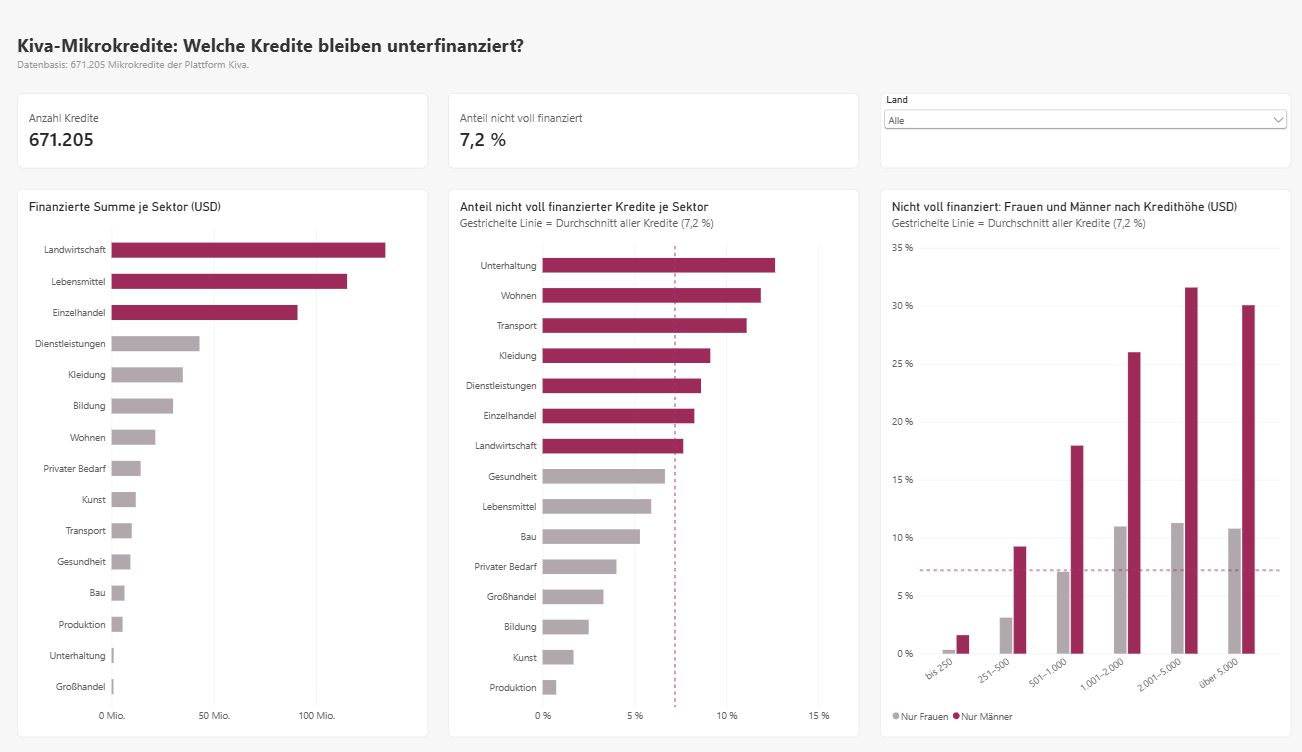

This screenshot's page, from the dashboard's own definition file:
{"tool":"powerbi","page":{"name":"Seite 1","canvas":[1920,1080],"ordinal":0},"visuals":[{"type":"cardVisual","fields":{"Data":["Kredite.Anzahl Kredite"]},"box":[30,110,600,110],"z":0},{"type":"clusteredBarChart","title":"Finanzierte Summe je Sektor (USD)","fields":{"Category":["Kredite.Sektor"],"Y":["Sum(data_abschlussprojekt.funded_amount)"]},"box":[30,250,600,800],"z":1},{"type":"slicer","fields":{"Values":["data_abschlussprojekt.country"]},"box":[1290,110,600,110],"z":2},{"type":"cardVisual","fields":{"Data":["Kredite.Anteil nicht voll finanziert"]},"box":[660,110,600,110],"z":3},{"type":"clusteredBarChart","title":"Anteil nicht voll finanzierter Kredite je Sektor","fields":{"Category":["Kredite.Sektor"],"Y":["Kredite.Anteil nicht voll finanziert"]},"box":[660,250,600,800],"z":4},{"type":"clusteredColumnChart","title":"Nicht voll finanziert: Frauen und Männer nach Kredithöhe (USD)","fields":{"Category":["Kredite.Größenklasse"],"Series":["Kredite.Gruppe"],"Y":["Kredite.Anteil nicht voll finanziert"]},"box":[1290,250,600,800],"z":5},{"type":"textbox","box":[30,20,1860,70],"z":6}]}

Visuals, with their boxes in screenshot pixels (x1, y1, x2, y2), scaled from the page's 1920x1080 canvas onto the 1302x752 screenshot:
cardVisual - Kredite.Anzahl Kredite: [20,77,427,153]
"Finanzierte Summe je Sektor (USD)" clusteredBarChart: [20,174,427,731]
slicer - data_abschlussprojekt.country: [875,77,1282,153]
cardVisual - Kredite.Anteil nicht voll finanziert: [448,77,854,153]
"Anteil nicht voll finanzierter Kredite je Sektor" clusteredBarChart: [448,174,854,731]
"Nicht voll finanziert: Frauen und Männer nach Kredithöhe (USD)" clusteredColumnChart: [875,174,1282,731]
textbox: [20,14,1282,63]
